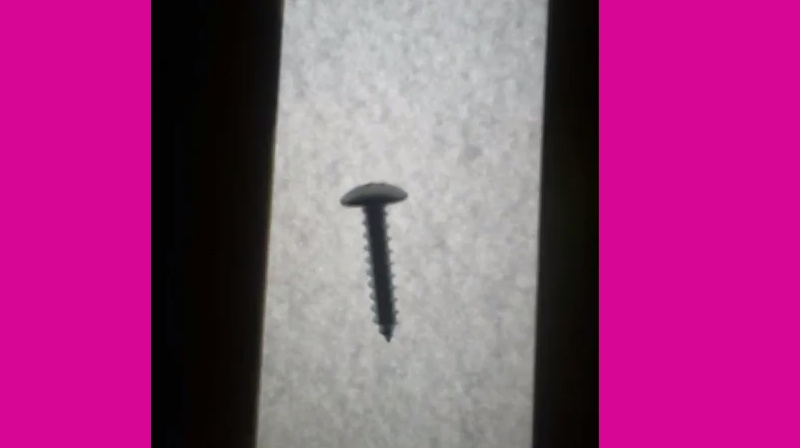S003: (336, 176, 414, 344)
